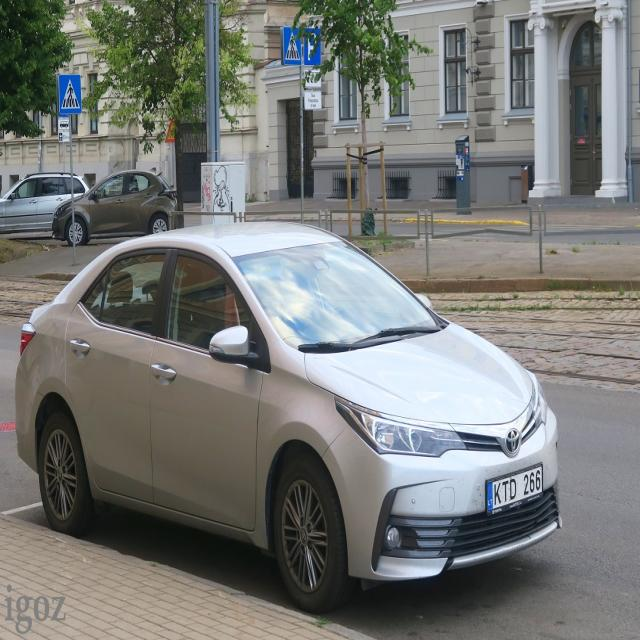License-plate: (484, 464, 546, 516)
